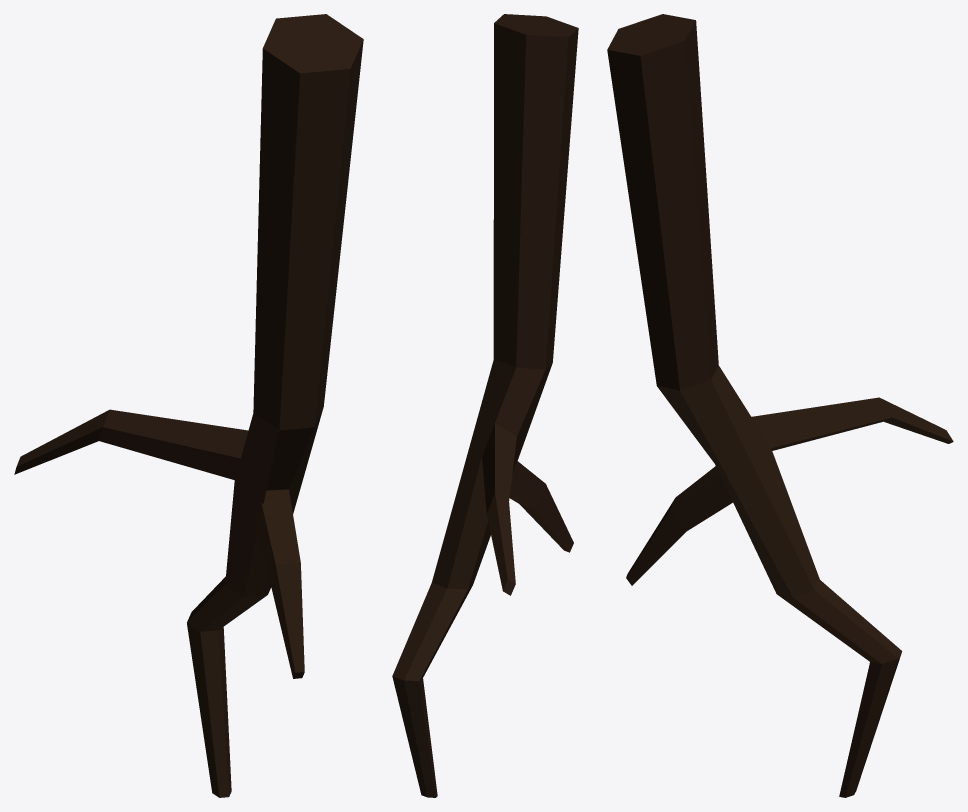
File: Wood-root-2.fbx
The picture shows the model from 3 angles, left to right: view 1: azimuth 30°, elevation 25°; view 2: azimuth 150°, elevation 25°; view 3: azimuth 270°, elevation 25°; orthographic projection. The views are drawn at different scales.
Visible parts, largest first — view 1: Cylinder.097; view 2: Cylinder.097; view 3: Cylinder.097.
Boxes of the visible parts, <box> form: Cylinder.097: <box>14,14,363,797</box>; Cylinder.097: <box>392,14,578,797</box>; Cylinder.097: <box>607,14,953,797</box>.
Bounding box in the file's own units: 82.56 × 369 × 152.
